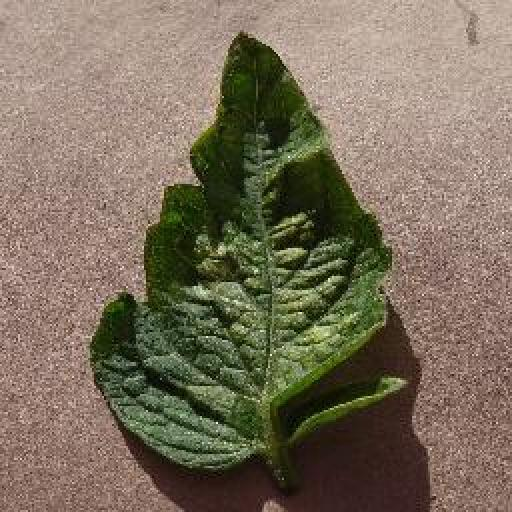disease_tomato: (89, 36, 412, 469)
